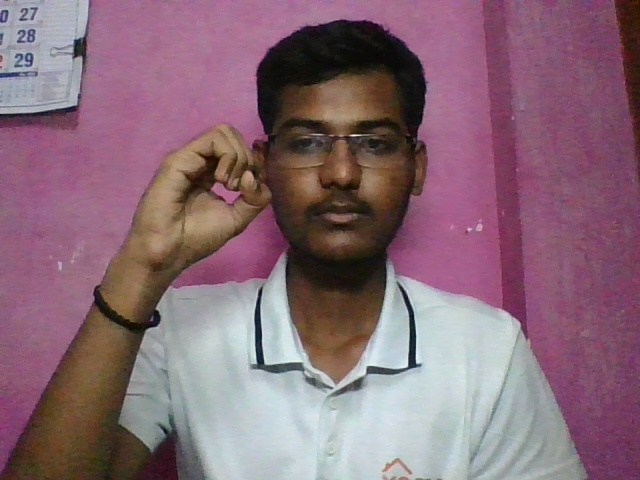Hello: (104, 114, 284, 310)
